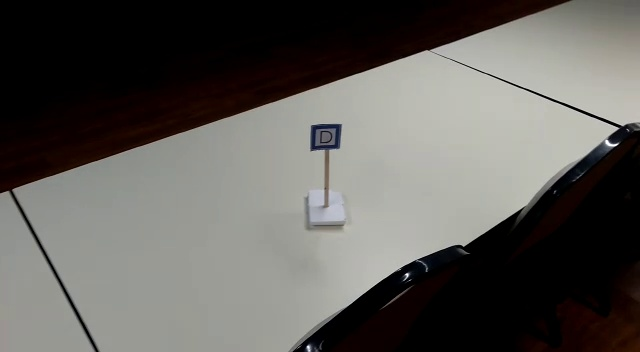durak: (310, 125, 340, 149)
